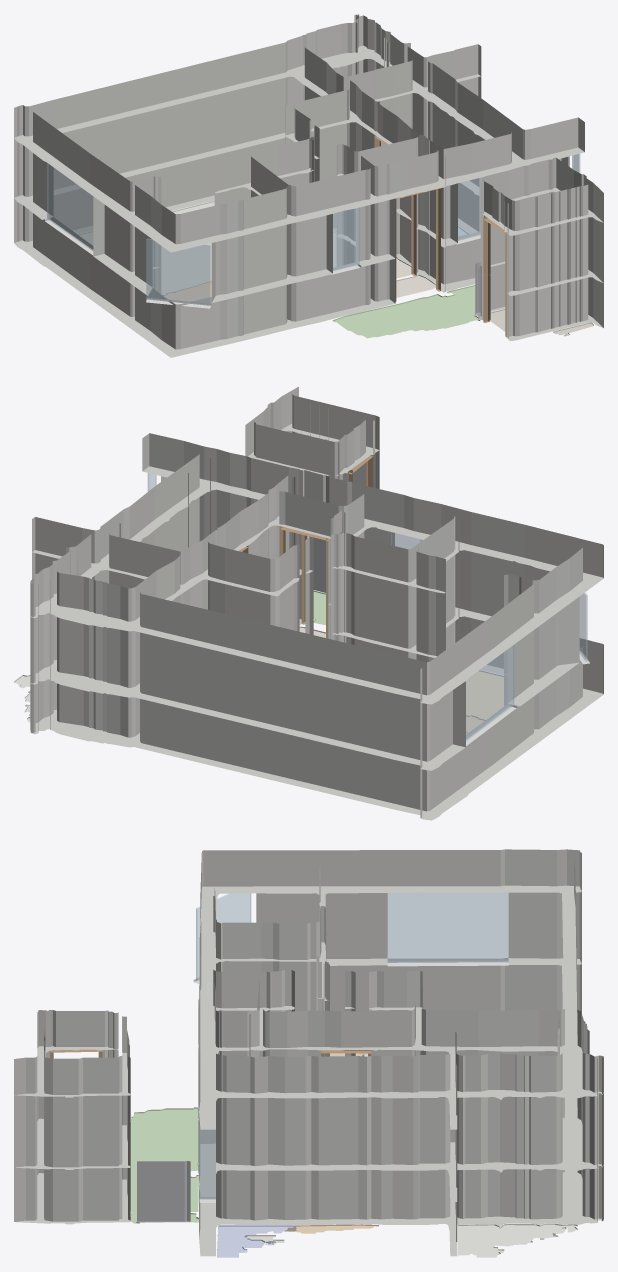
3 views of the same model, one above another, from view 1: azimuth 30°, elevation 25°; view 2: azimuth 150°, elevation 25°; view 3: azimuth 270°, elevation 25° (orthographic). The views are drawn at different scales.
Parts seen in each view (by area): view 1: walls, floor_0_Outdoor, window_6, window_5, floor_15_Undefined, window_7, window_8, door_4, door_3, floor_7_Entry, floor_4_Living_Room, door_2; view 2: walls, window_5, floor_1_Kitchen, railings, door_2, window_6; view 3: walls, window_5, floor_0_Outdoor, railings, floor_16_Undefined, floor_5_Bed_Room, window_6, window_9, sill_5, floor_3_Living_Room.
Boxes of the visible parts, bbox=[...] form: walls: bbox=[14, 14, 603, 357]; floor_0_Outdoor: bbox=[332, 285, 480, 338]; window_6: bbox=[146, 238, 210, 305]; window_5: bbox=[47, 158, 99, 254]; floor_15_Undefined: bbox=[79, 201, 214, 294]; window_7: bbox=[333, 208, 359, 270]; window_8: bbox=[455, 177, 483, 240]; door_4: bbox=[483, 216, 506, 337]; door_3: bbox=[395, 188, 440, 301]; floor_7_Entry: bbox=[396, 274, 435, 297]; floor_4_Living_Room: bbox=[162, 281, 211, 301]; door_2: bbox=[411, 194, 416, 275]; walls: bbox=[30, 386, 603, 820]; window_5: bbox=[466, 645, 514, 741]; floor_1_Kitchen: bbox=[466, 670, 503, 719]; railings: bbox=[313, 537, 325, 592]; door_2: bbox=[280, 526, 328, 638]; window_6: bbox=[578, 584, 587, 661]; walls: bbox=[14, 849, 603, 1256]; window_5: bbox=[387, 889, 508, 962]; floor_0_Outdoor: bbox=[130, 1107, 198, 1223]; railings: bbox=[137, 1161, 190, 1222]; floor_16_Undefined: bbox=[458, 1223, 577, 1257]; floor_5_Bed_Room: bbox=[217, 1225, 295, 1257]; window_6: bbox=[196, 893, 251, 980]; window_9: bbox=[199, 1126, 215, 1198]; sill_5: bbox=[387, 960, 508, 966]; floor_3_Living_Room: bbox=[285, 1224, 378, 1233].
Bounding box in the file's own units: 8.76 × 2.72 × 8.86.
